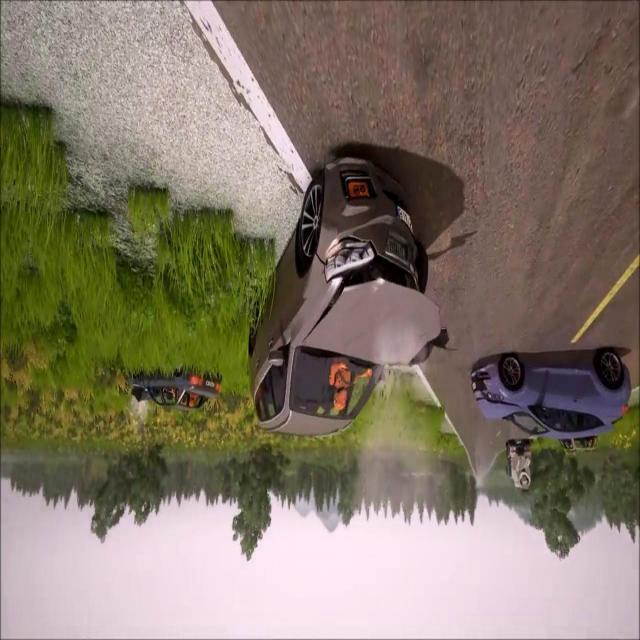moderate: (246, 143, 449, 445)
